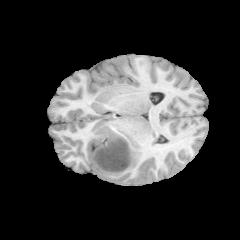glioma: (87, 118, 142, 178)
